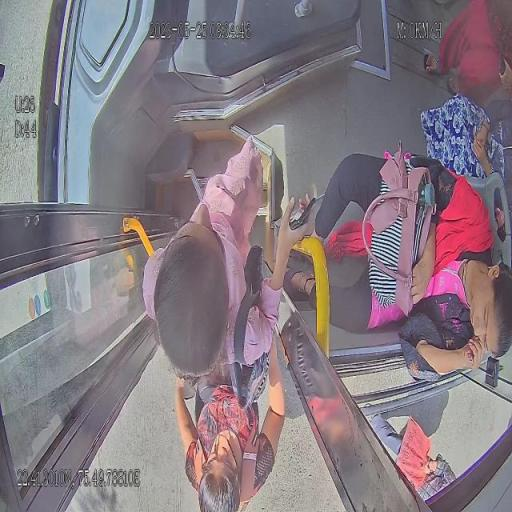persona: (282, 143, 512, 383), (142, 134, 318, 370), (167, 342, 294, 512), (368, 405, 454, 512), (409, 94, 512, 177), (422, 7, 512, 100)
